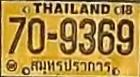0: (27, 17, 44, 53)
3: (78, 18, 95, 54)
6: (97, 18, 114, 54)
7: (8, 16, 25, 53)
9: (59, 17, 76, 54), (116, 18, 133, 55)
SPK: (29, 57, 113, 75)
